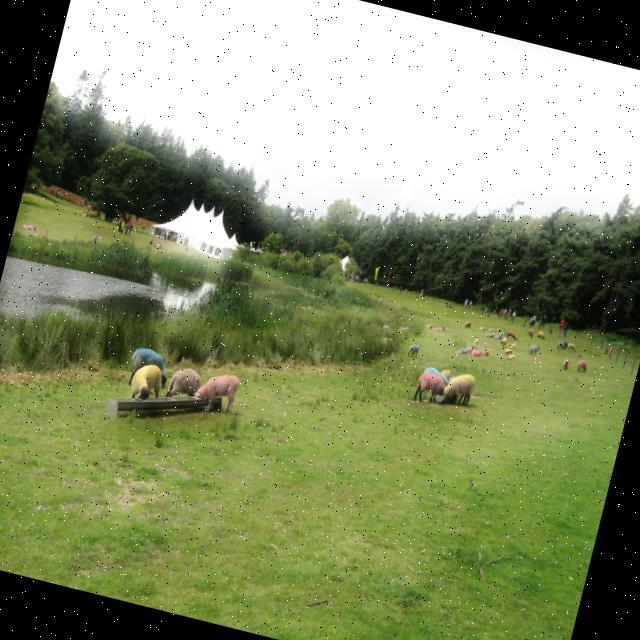sheep: (192, 374, 238, 412), (166, 367, 200, 395)
